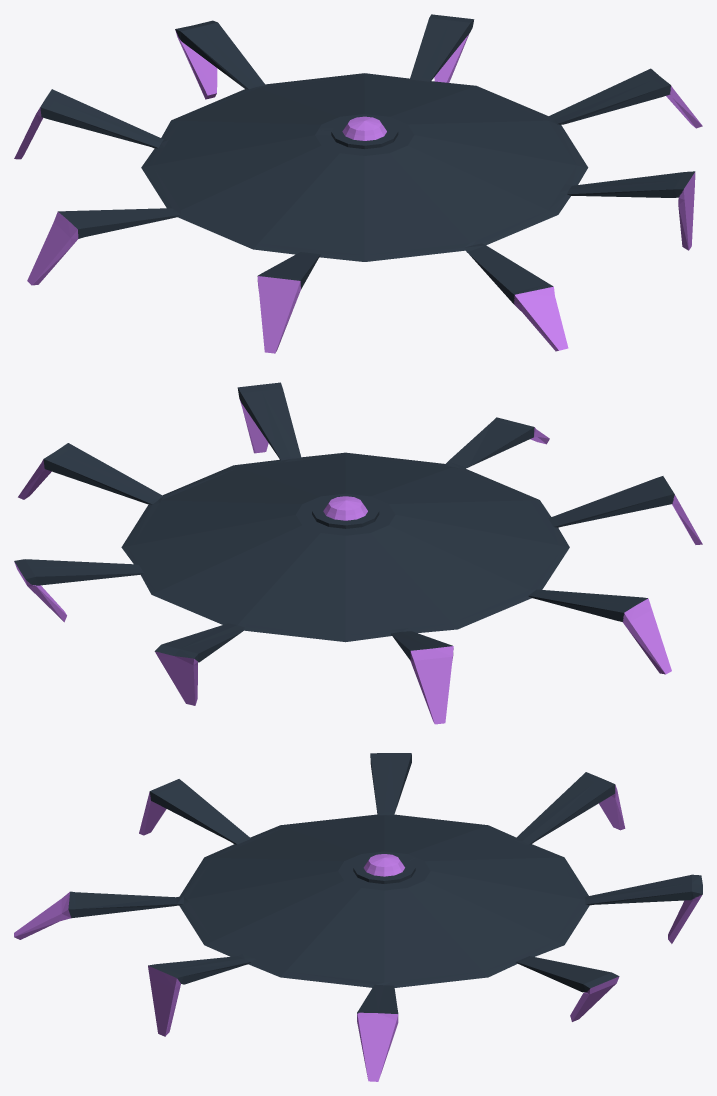
The model's file is Spider_Walk_000002.obj.
The picture shows the model from 3 angles, top to bottom: view 1: azimuth 30°, elevation 25°; view 2: azimuth 150°, elevation 25°; view 3: azimuth 270°, elevation 25°; orthographic projection. The views are drawn at different scales.
Parts seen in each view (by area): view 1: Circle_Circle.001; view 2: Circle_Circle.001; view 3: Circle_Circle.001.
Boxes of the visible parts, box(x1,y1,x2,y2) form: Circle_Circle.001: box(14, 14, 702, 353); Circle_Circle.001: box(14, 382, 702, 724); Circle_Circle.001: box(14, 753, 702, 1081).
Bounding box in the file's own units: 3.41 × 0.4479 × 3.31.
